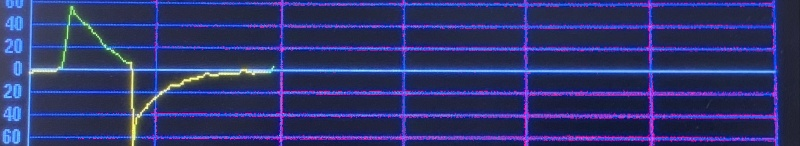normal_flow: (25, 2, 270, 146)
